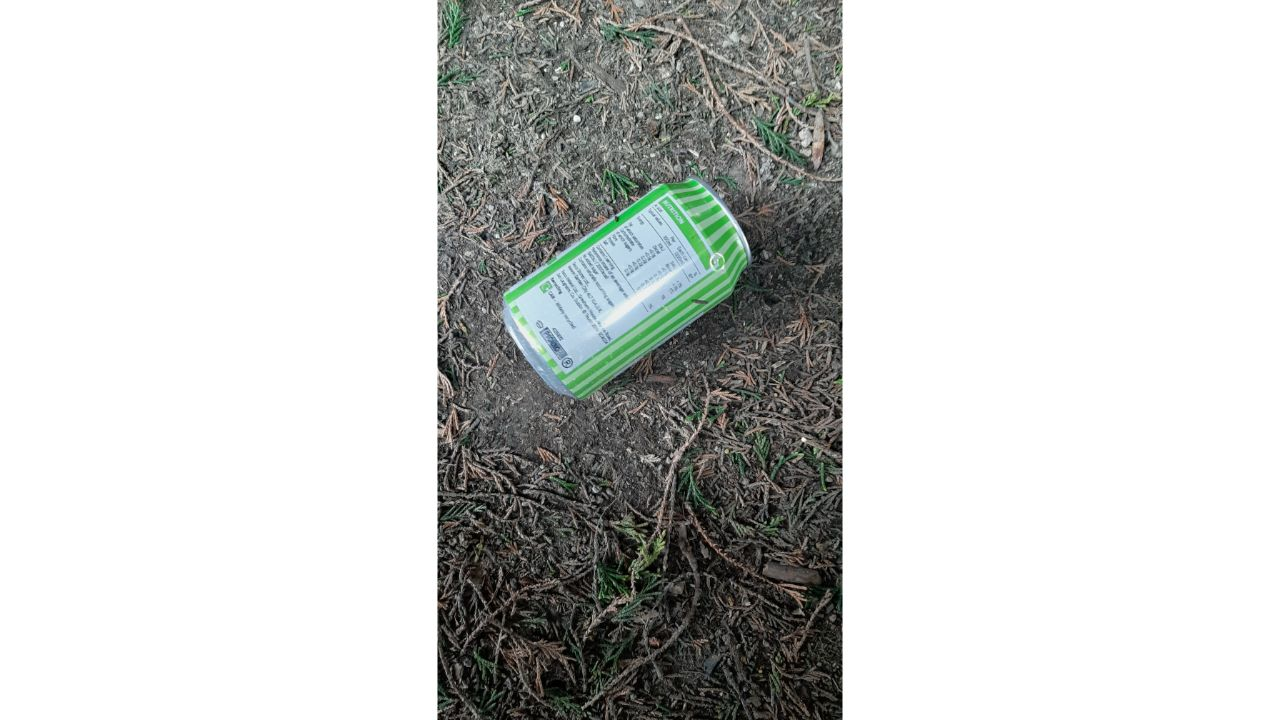Can: (493, 167, 767, 413)
